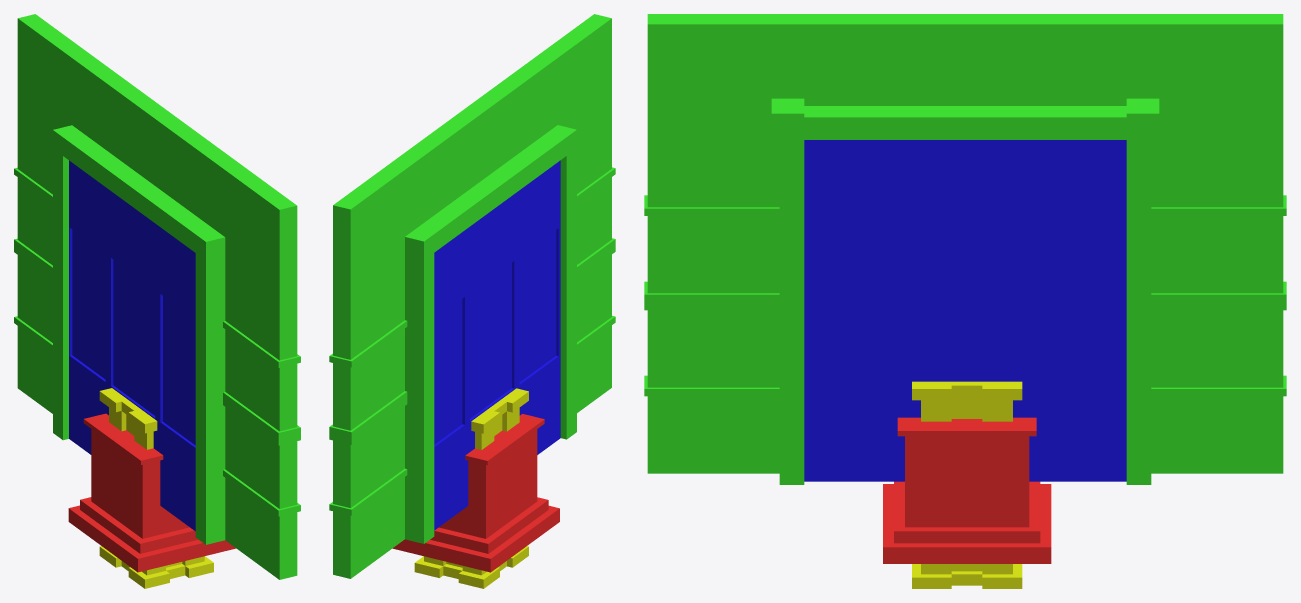
The model's file is PuertaCompleta.FBX.
The picture shows the model from 3 angles, left to right: view 1: azimuth 30°, elevation 25°; view 2: azimuth 150°, elevation 25°; view 3: azimuth 270°, elevation 25°; orthographic projection. The views are drawn at different scales.
Parts seen in each view (by area): view 1: Box007, Box014, Box010, Box009; view 2: Box007, Box014, Box010, Box009; view 3: Box007, Box014, Box010, Box009.
Part boxes in pixels (x1,y1,x2,y2): Box007: [14, 14, 300, 579]; Box014: [69, 160, 195, 531]; Box010: [68, 413, 235, 572]; Box009: [99, 388, 213, 588]; Box007: [329, 14, 615, 578]; Box014: [434, 160, 560, 530]; Box010: [392, 414, 559, 572]; Box009: [414, 388, 528, 588]; Box007: [644, 14, 1286, 484]; Box014: [804, 140, 1126, 481]; Box010: [883, 417, 1051, 563]; Box009: [912, 381, 1022, 588].
Size of the model in its own units: 32.19 by 130 by 138.
